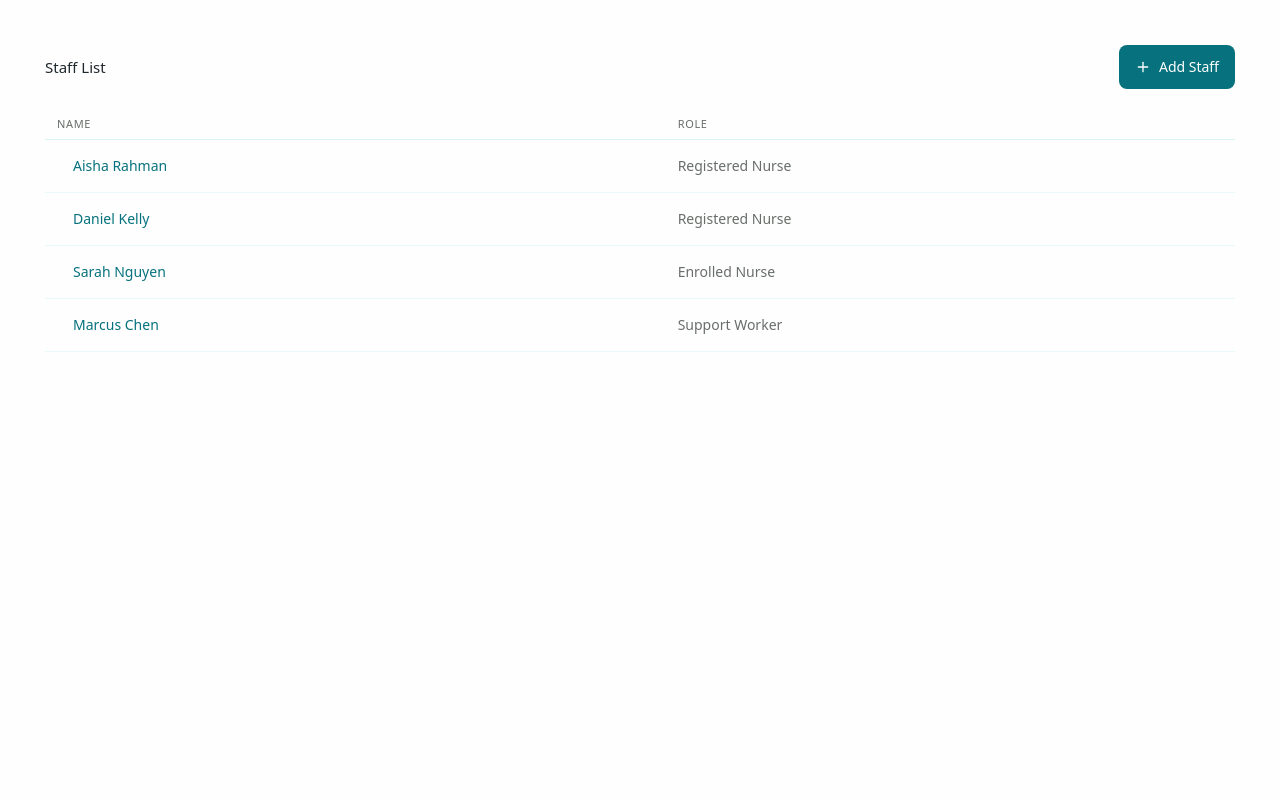
Admin Staff › [ADM-02][AC-03] Edit prefills Aisha's full contact details
Click the button with aria-label "Edit Aisha Rahman" at (120, 166), box [57,144,183,188]
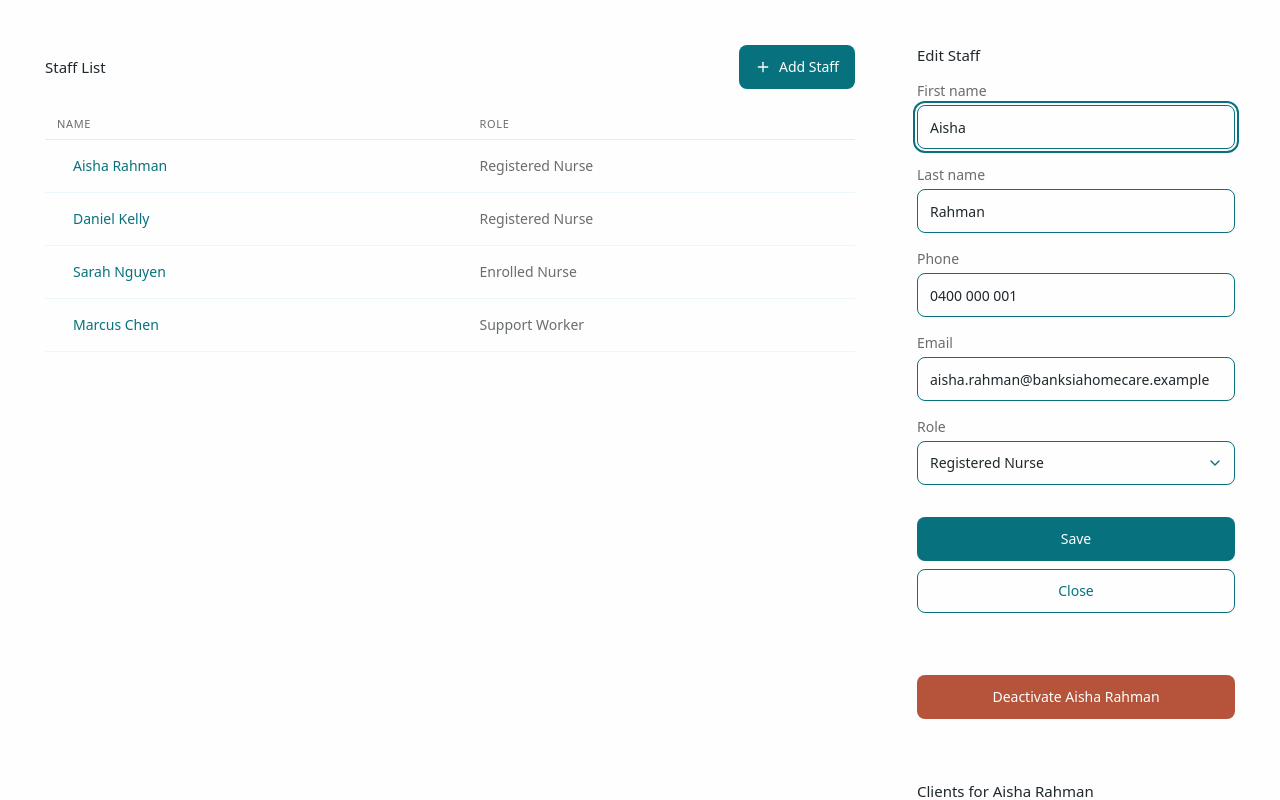
Expected: the field labelled "First name" holds "Aisha", [917,105,1235,149]
Expected: the field labelled "Last name" holds "Rahman", [917,189,1235,233]
Expected: the field labelled "Phone" holds "0400 000 001", [917,273,1235,317]
